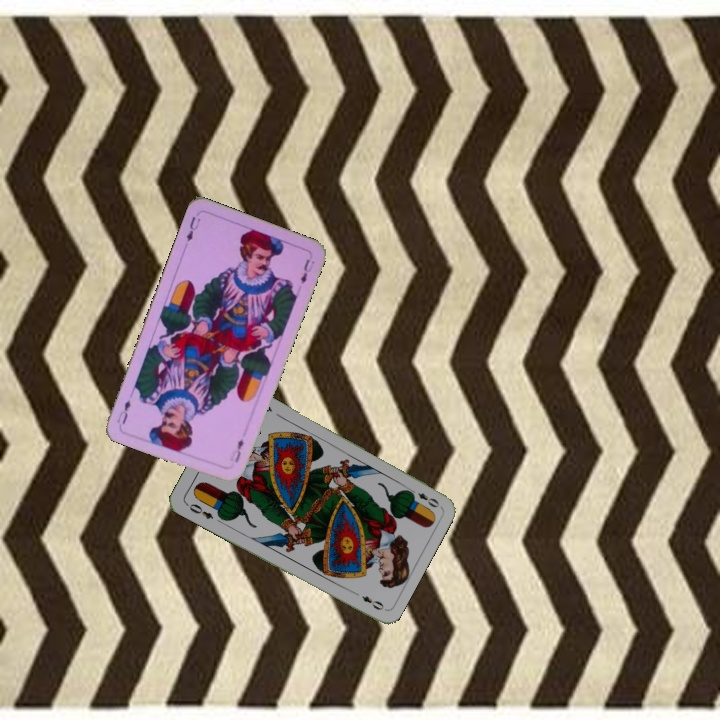EO: (405, 484, 442, 510), (182, 499, 216, 522)
EU: (182, 213, 203, 245), (226, 434, 247, 465)
